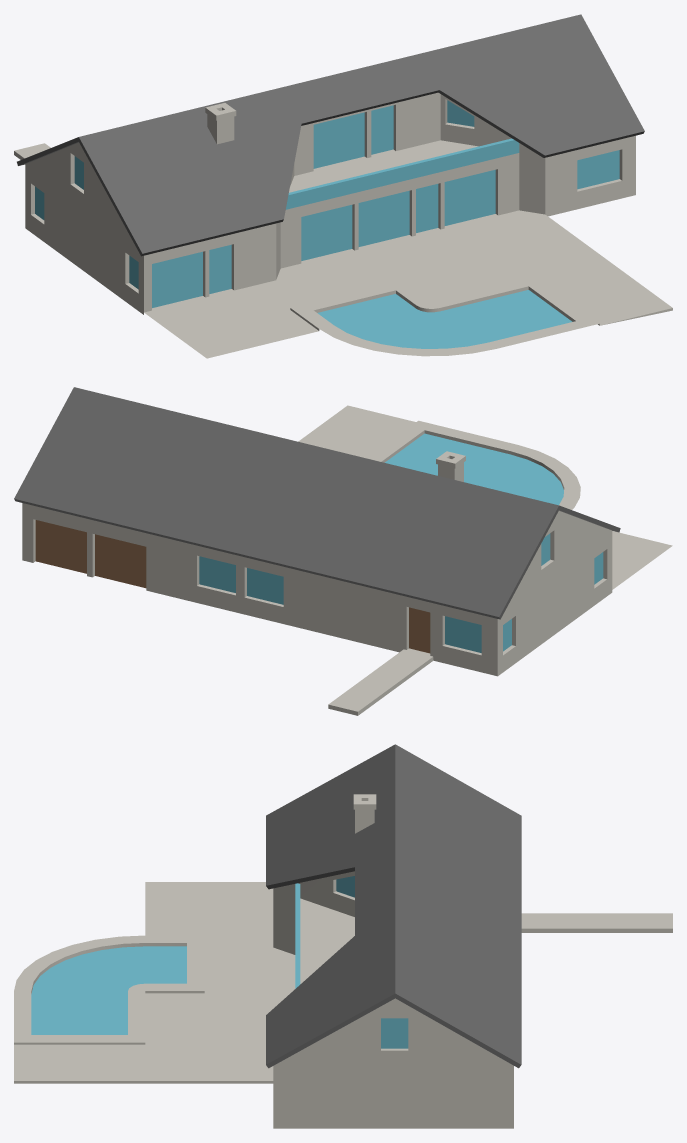
Rendered from house-luxurious.glb.
3 renders of one model, top to bottom at view 1: azimuth 30°, elevation 25°; view 2: azimuth 150°, elevation 25°; view 3: azimuth 270°, elevation 25°, orthographic. The views are drawn at different scales.
Parts seen in each view (by area): view 1: house-luxurious_Cube.010; view 2: house-luxurious_Cube.010; view 3: house-luxurious_Cube.010.
Part boxes in pixels (x1=…): house-luxurious_Cube.010: x1=14, y1=14, x2=672, y2=358; house-luxurious_Cube.010: x1=14, y1=387, x2=672, y2=715; house-luxurious_Cube.010: x1=14, y1=744, x2=672, y2=1128.
Bounding box in the file's own units: 24.5 × 6.68 × 27.38.
1 material, 1 textured.
